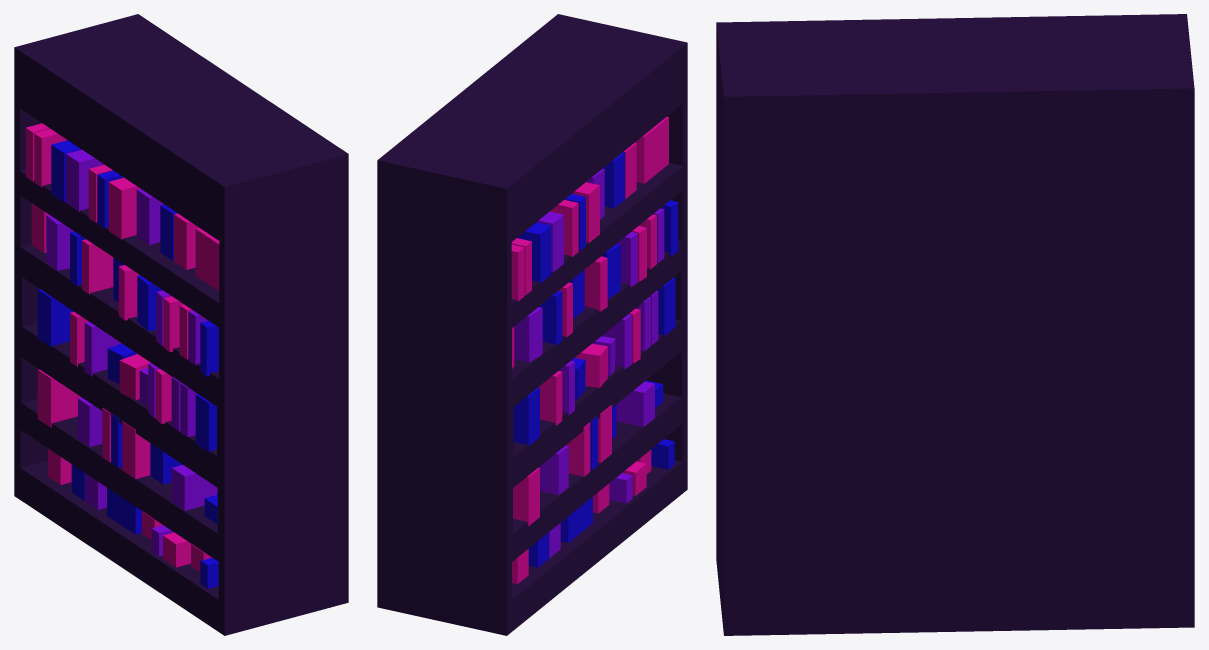
Rendered from Librero.fbx.
3 views of the same model, side by side, from view 1: azimuth 30°, elevation 25°; view 2: azimuth 150°, elevation 25°; view 3: azimuth 270°, elevation 25° (orthographic). The views are drawn at different scales.
Visible parts, largest first — view 1: Cube; view 2: Cube; view 3: Cube.
Part boxes in pixels (bbox=[...]): Cube: bbox=[14, 14, 348, 635]; Cube: bbox=[377, 14, 687, 635]; Cube: bbox=[716, 14, 1194, 635].
Size of the model in its own units: 2543 by 7711 by 6197.
